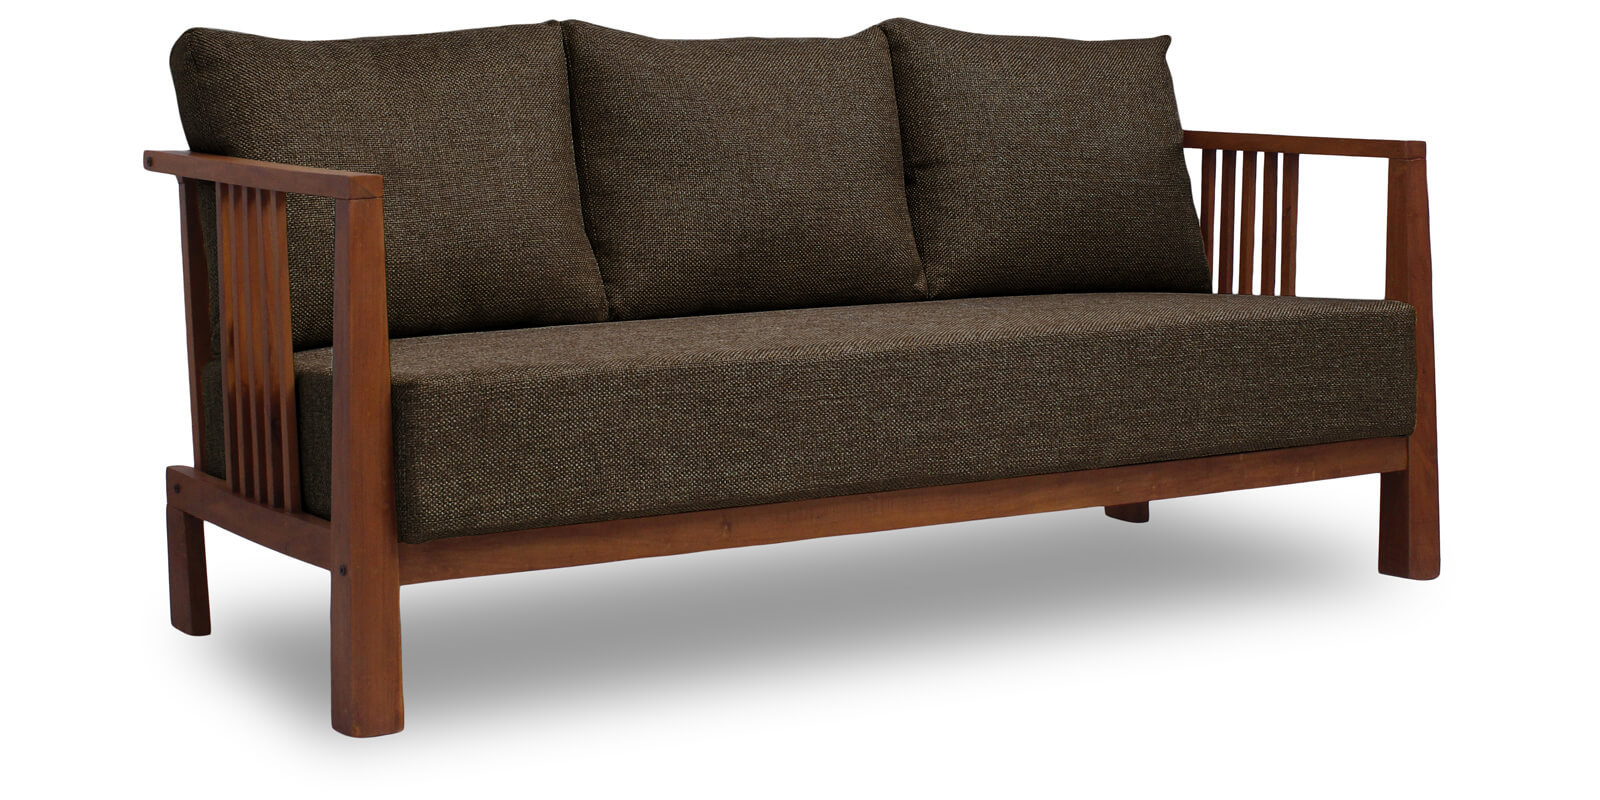Dijon Three Seater Sofa in Dark Brown Colour by Auspicious Home: (139, 18, 1507, 755)
